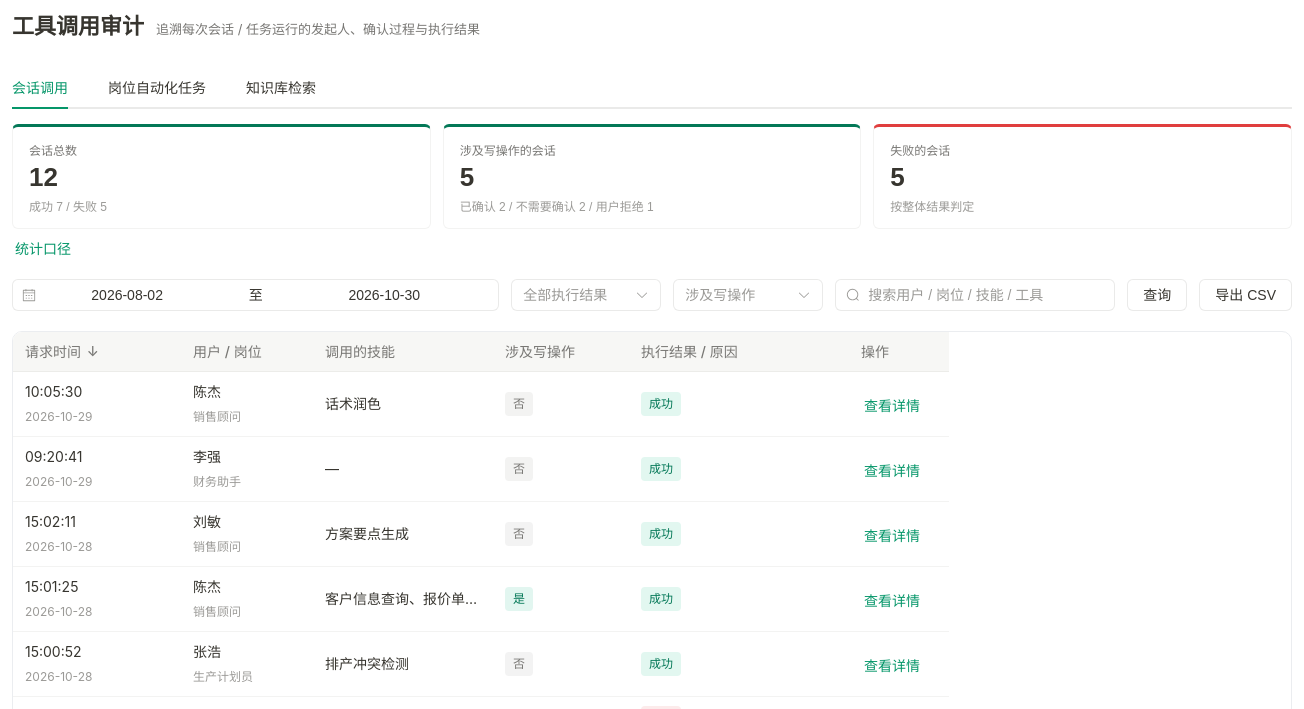
Test: 知识库检索页签（PRD §九） › 点「无命中检索」卡片 → 只剩检索成功且命中 0 条的记录
Step 1. Click the tab "知识库检索" → (281, 88), box [246,79,316,96]
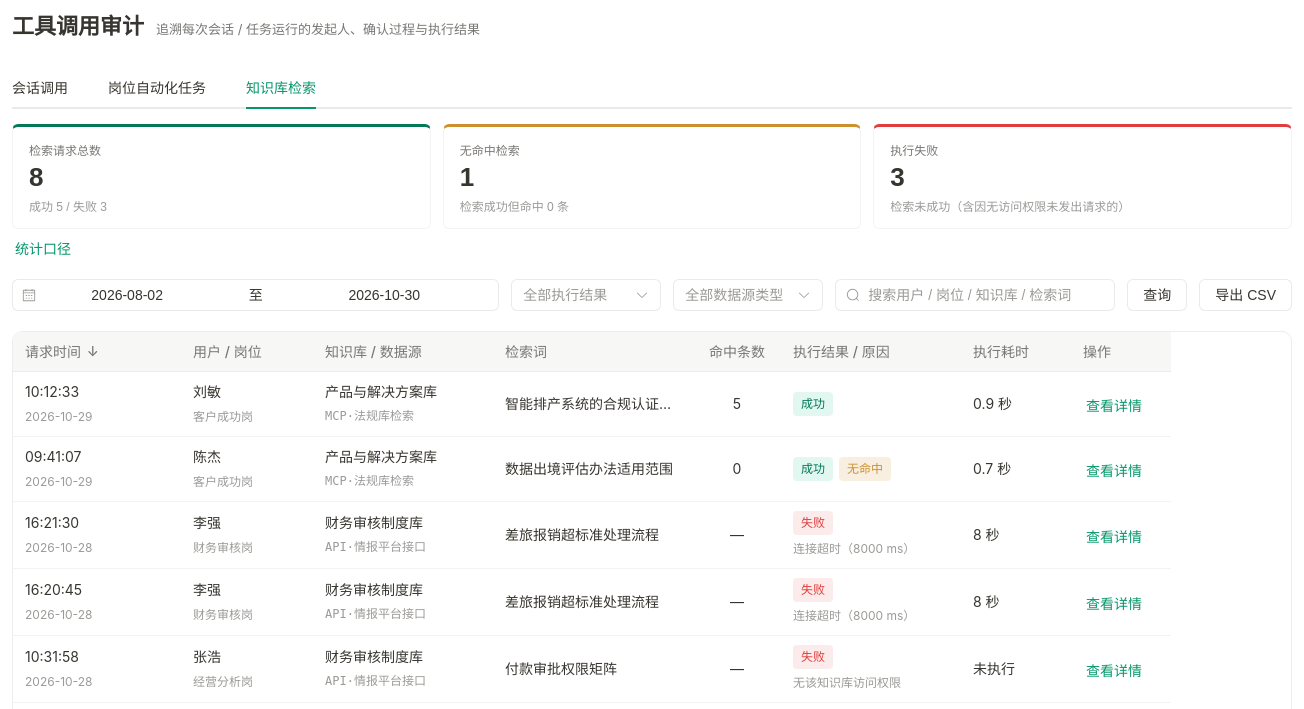
Check: the text with class "metric-value" reads "1", box [460,162,474,192]
Step 2. Click the button with class "metric-card" showing "无命中检索 1 检索成功但命中 0 条" → (490, 151), box [443,124,861,229]
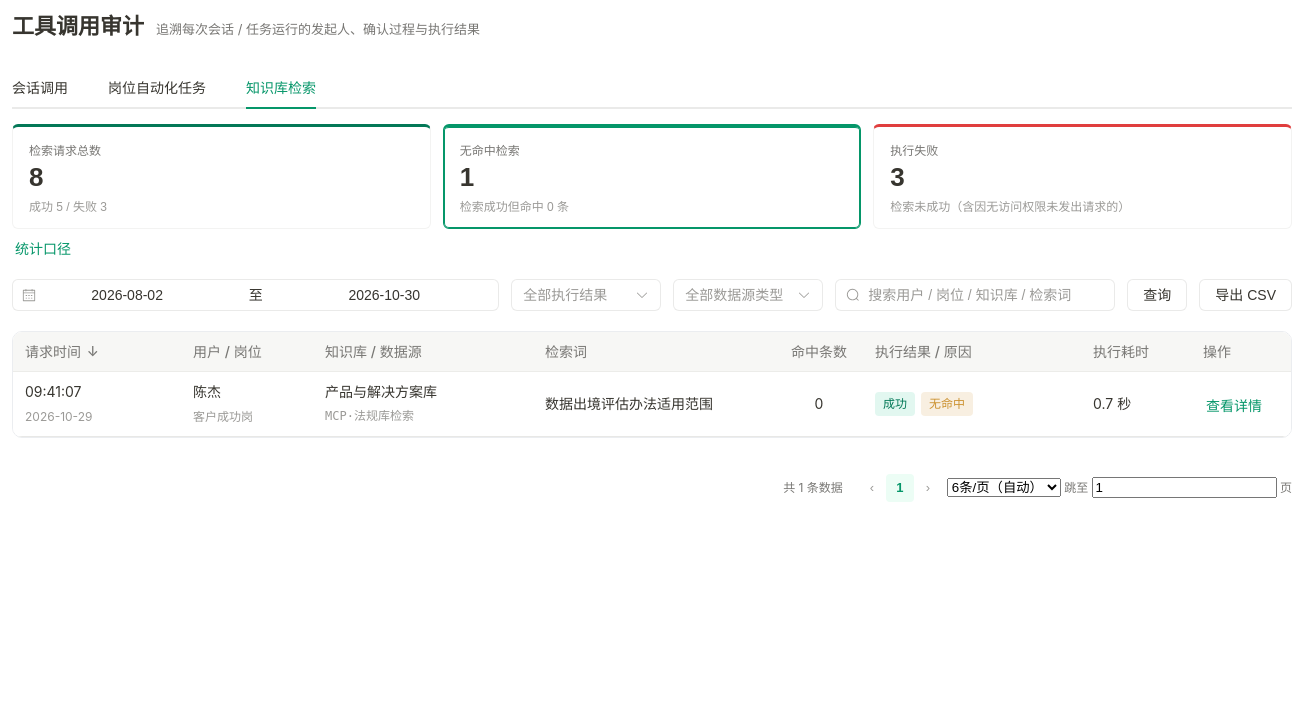
Check: the row that starts with "客户成功岗" is shown, box [883,396,907,412]
Check: the row that starts with "客户成功岗" shows "数据出境", box [545,396,713,412]
